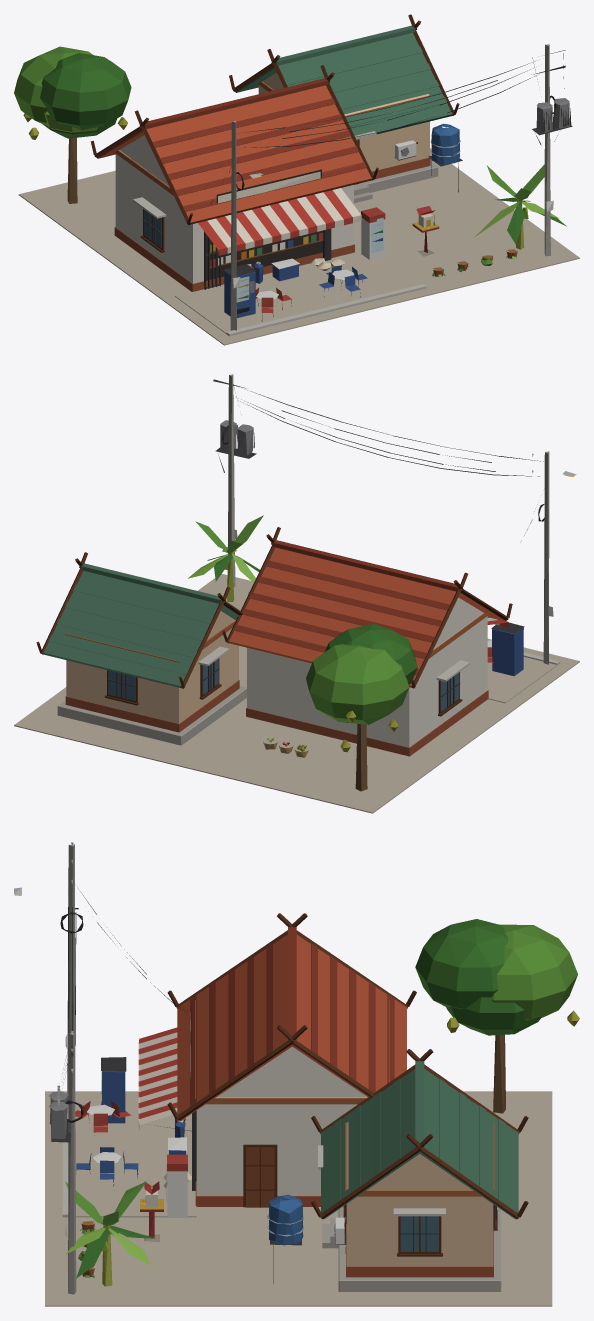
File: shop_1.glb
The picture shows the model from 3 angles, top to bottom: view 1: azimuth 30°, elevation 25°; view 2: azimuth 150°, elevation 25°; view 3: azimuth 270°, elevation 25°; orthographic projection. The views are drawn at different scales.
Visible parts, largest first — view 1: body, windows; view 2: body, windows; view 3: body, windows.
Part boxes in pixels (box(x1,y1,x2,y2)): body: box(14, 14, 579, 345); windows: box(143, 175, 322, 280); body: box(14, 374, 579, 813); windows: box(108, 474, 574, 711); body: box(14, 842, 579, 1306); windows: box(14, 894, 495, 1251).
Size of the model in its own units: 16.46 by 9.31 by 17.75.
